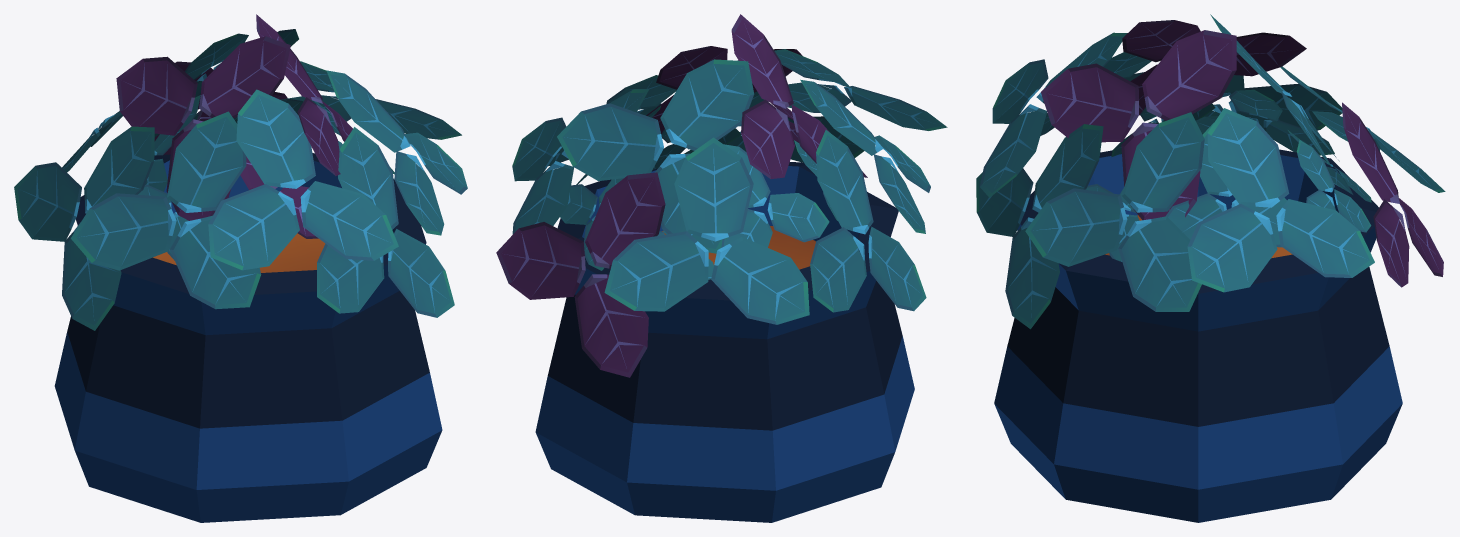
Rendered from Garden_Bush01.fbx.
The picture shows the model from 3 angles, left to right: view 1: azimuth 30°, elevation 25°; view 2: azimuth 150°, elevation 25°; view 3: azimuth 270°, elevation 25°; orthographic projection. The views are drawn at different scales.
Parts seen in each view (by area): view 1: Cylinder.089; view 2: Cylinder.089; view 3: Cylinder.089.
Boxes of the visible parts, x1=… form: Cylinder.089: x1=14, y1=14, x2=467, y2=522; Cylinder.089: x1=496, y1=14, x2=947, y2=522; Cylinder.089: x1=976, y1=14, x2=1445, y2=522.
Size of the model in its own units: 48.63 by 49.17 by 48.88.
